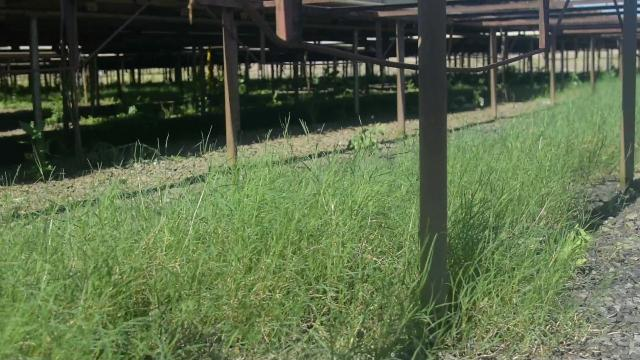MalezaMontesDelPlata: (238, 155, 419, 360), (448, 131, 577, 360), (115, 161, 237, 360), (0, 176, 114, 360), (14, 119, 56, 185)
